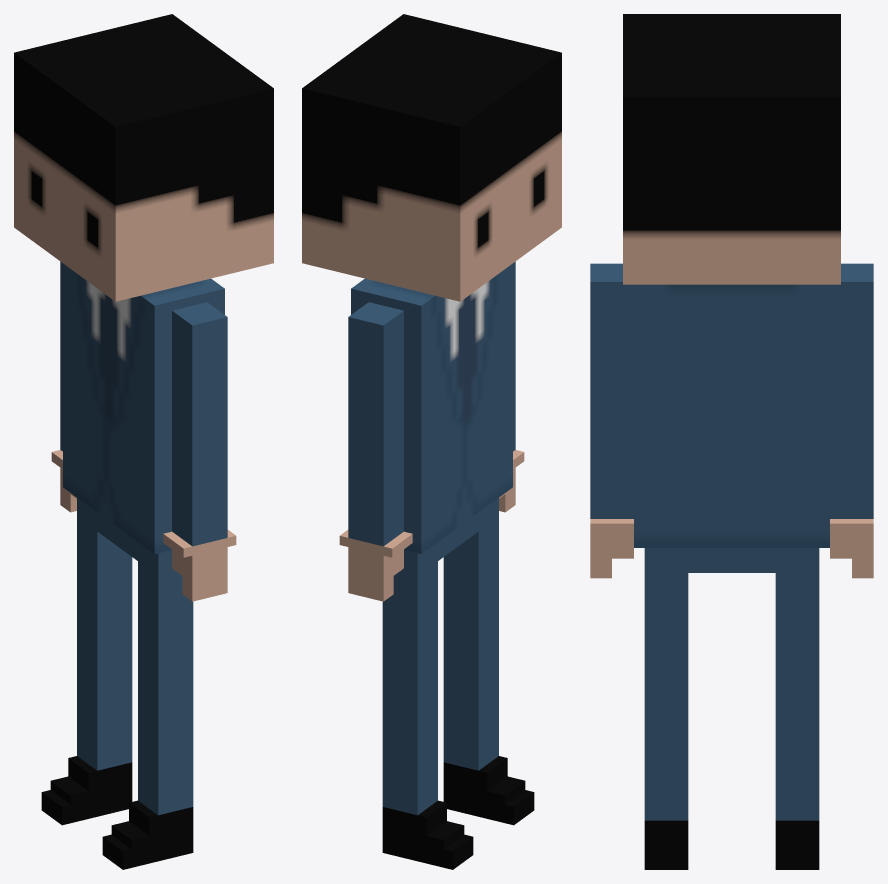
Rendered from oficinista.fbx.
3 views of the same model, side by side, from view 1: azimuth 30°, elevation 25°; view 2: azimuth 150°, elevation 25°; view 3: azimuth 270°, elevation 25° (orthographic). The views are drawn at different scales.
Parts seen in each view (by area): view 1: Caja_7, Caja_5, Caja_6, Caja_3, Caja, Caja_2, Caja_4, Caja_1, _1, Caja_8, object 10; view 2: Caja_7, Caja_5, Caja_8, Caja, Caja_3, Caja_2, Caja_1, Caja_4, object 10, Caja_6, _1; view 3: Caja_7, Caja_5, Caja, Caja_3, Caja_6, Caja_8, Caja_2, Caja_1, Caja_4, object 10, _1.
Boxes of the visible parts, box(x1,y1,x2,y2) form: Caja_7: box(14, 14, 273, 301); Caja_5: box(63, 263, 224, 526); Caja_6: box(172, 302, 227, 546); Caja_3: box(138, 561, 193, 815); Caja: box(77, 517, 132, 770); Caja_2: box(63, 460, 175, 575); Caja_4: box(102, 800, 193, 869); Caja_1: box(41, 756, 132, 825); _1: box(163, 529, 236, 601); Caja_8: box(60, 261, 62, 451); object 10: box(51, 450, 76, 512); Caja_7: box(302, 14, 561, 301); Caja_5: box(351, 263, 512, 526); Caja_8: box(348, 302, 403, 546); Caja: box(382, 561, 437, 815); Caja_3: box(443, 517, 498, 770); Caja_2: box(400, 460, 512, 575); Caja_1: box(382, 800, 473, 869); Caja_4: box(443, 756, 534, 825); object 10: box(339, 529, 412, 601); Caja_6: box(513, 261, 515, 451); _1: box(499, 450, 524, 512); Caja_7: box(623, 14, 840, 284); Caja_5: box(634, 284, 829, 518); Caja: box(775, 573, 819, 820); Caja_3: box(644, 573, 688, 820); Caja_6: box(590, 263, 633, 518); Caja_8: box(830, 263, 873, 518); Caja_2: box(634, 518, 829, 572); Caja_1: box(775, 820, 819, 869); Caja_4: box(644, 820, 688, 869); object 10: box(830, 519, 873, 578); _1: box(590, 519, 633, 578).
Bounding box in the file's own units: 18 × 82 × 26.
1 material, 1 textured.
